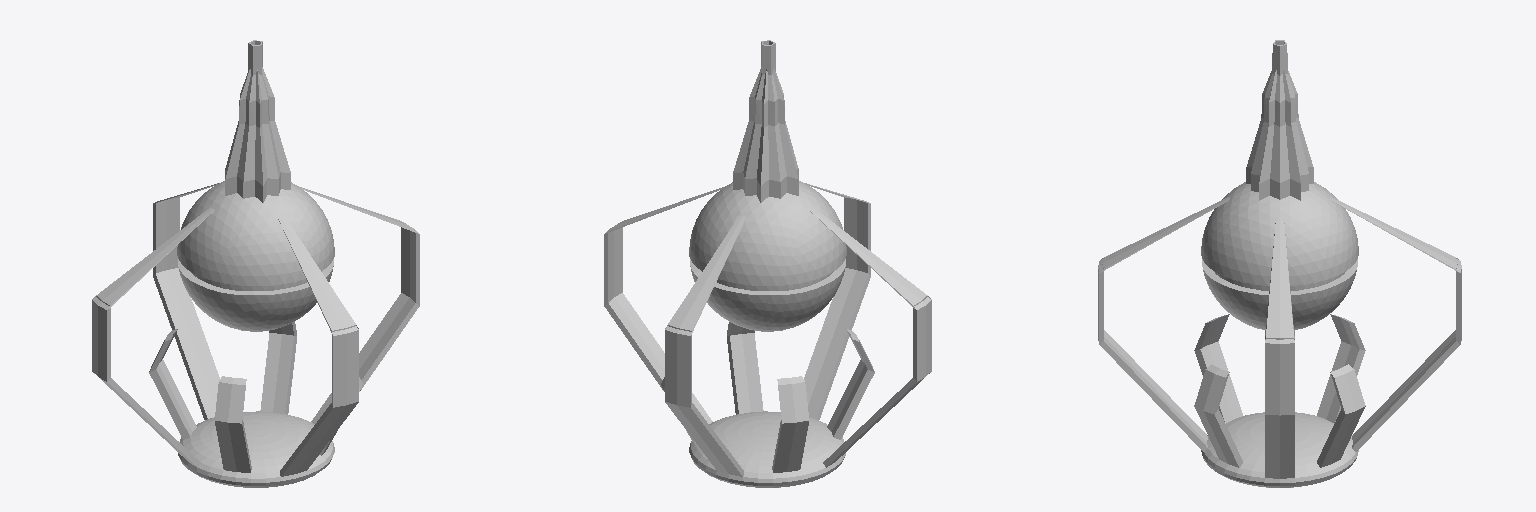
Rendered from powergen.obj.
The picture shows the model from 3 angles: view 1: azimuth 30°, elevation 25°; view 2: azimuth 150°, elevation 25°; view 3: azimuth 270°, elevation 25°; orthographic projection.
Visible parts, largest first — view 1: Icosphere.003; view 2: Icosphere.003; view 3: Icosphere.003.
Boxes of the visible parts, box(x1,y1,x2,y2) form: Icosphere.003: box(92, 40, 419, 487); Icosphere.003: box(604, 40, 931, 487); Icosphere.003: box(1098, 40, 1461, 487).
Size of the model in its own units: 4.61 by 5.95 by 4.61.